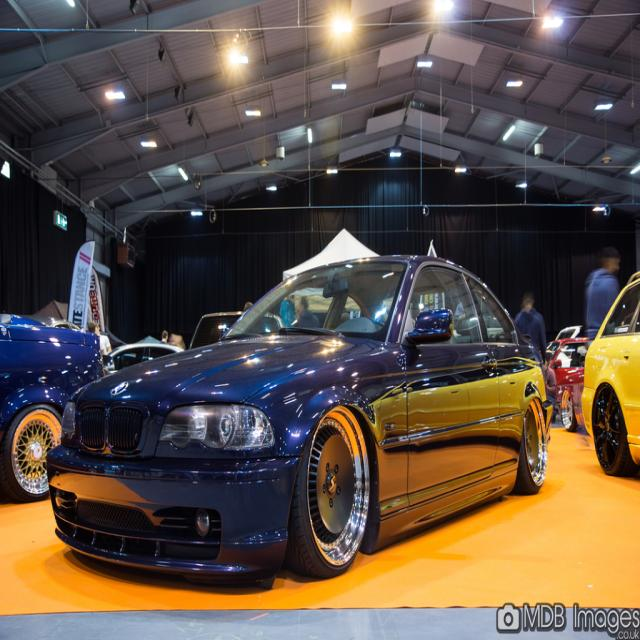car: (43, 247, 554, 584)
